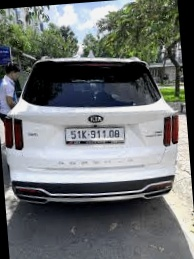Bien-so: (68, 115, 127, 135)
